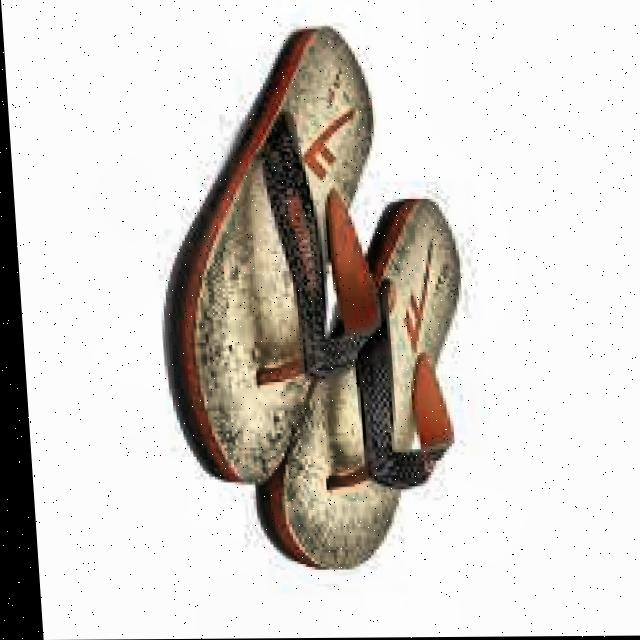shoes: (143, 23, 482, 583)
